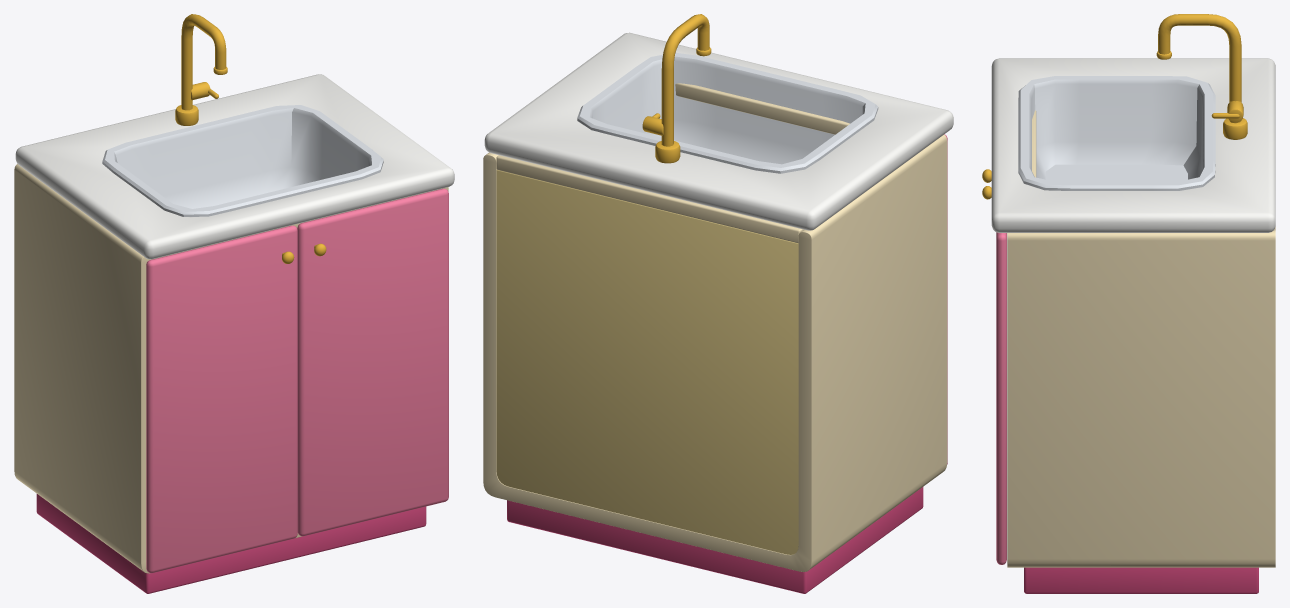
File: armario_cozinha_pia_creme_rosa.glb
3 renders of one model, left to right at view 1: azimuth 30°, elevation 25°; view 2: azimuth 150°, elevation 25°; view 3: azimuth 270°, elevation 25°, orthographic. The views are drawn at different scales.
Visible parts, largest first — view 1: armario_cozinha_pia_creme_rosa, porta_1, porta_2; view 2: armario_cozinha_pia_creme_rosa; view 3: armario_cozinha_pia_creme_rosa, porta_2.
Boxes of the visible parts, x1,y1,x2,y2 form: armario_cozinha_pia_creme_rosa: (14, 14, 454, 593); porta_1: (146, 225, 297, 573); porta_2: (297, 188, 448, 536); armario_cozinha_pia_creme_rosa: (483, 14, 953, 593); armario_cozinha_pia_creme_rosa: (991, 14, 1275, 593); porta_2: (982, 186, 1006, 564).
Size of the model in its own units: 0.798 by 1.18 by 0.619.
1 material, 1 textured.
